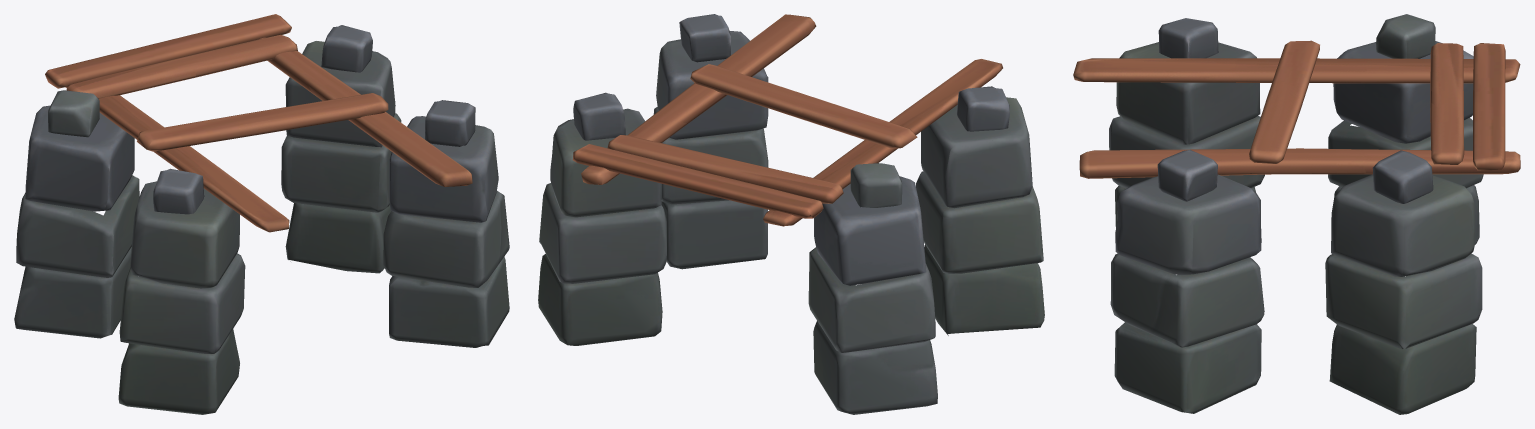
Rendered from SM_Bridge_Middle_02.glb.
The picture shows the model from 3 angles, left to right: view 1: azimuth 30°, elevation 25°; view 2: azimuth 150°, elevation 25°; view 3: azimuth 270°, elevation 25°; orthographic projection. The views are drawn at different scales.
Visible parts, largest first — view 1: SM_Bridge_Middle_02; view 2: SM_Bridge_Middle_02; view 3: SM_Bridge_Middle_02.
Boxes of the visible parts, x1,y1,x2,y2 form: SM_Bridge_Middle_02: (14,14,509,414); SM_Bridge_Middle_02: (538,14,1044,414); SM_Bridge_Middle_02: (1073,14,1520,414).
Bounding box in the file's own units: 4.32 × 2.3 × 4.11.
Materials: 1 (1 with a texture image).
